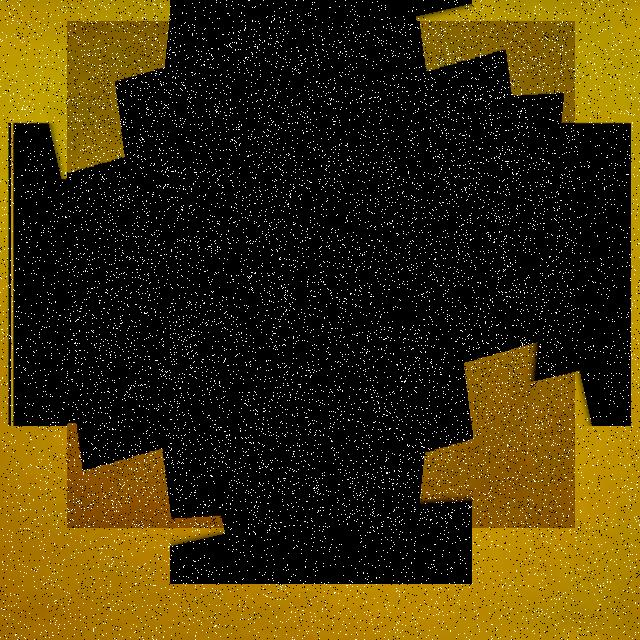lima puluh ribu rupiah: (67, 21, 575, 528)
